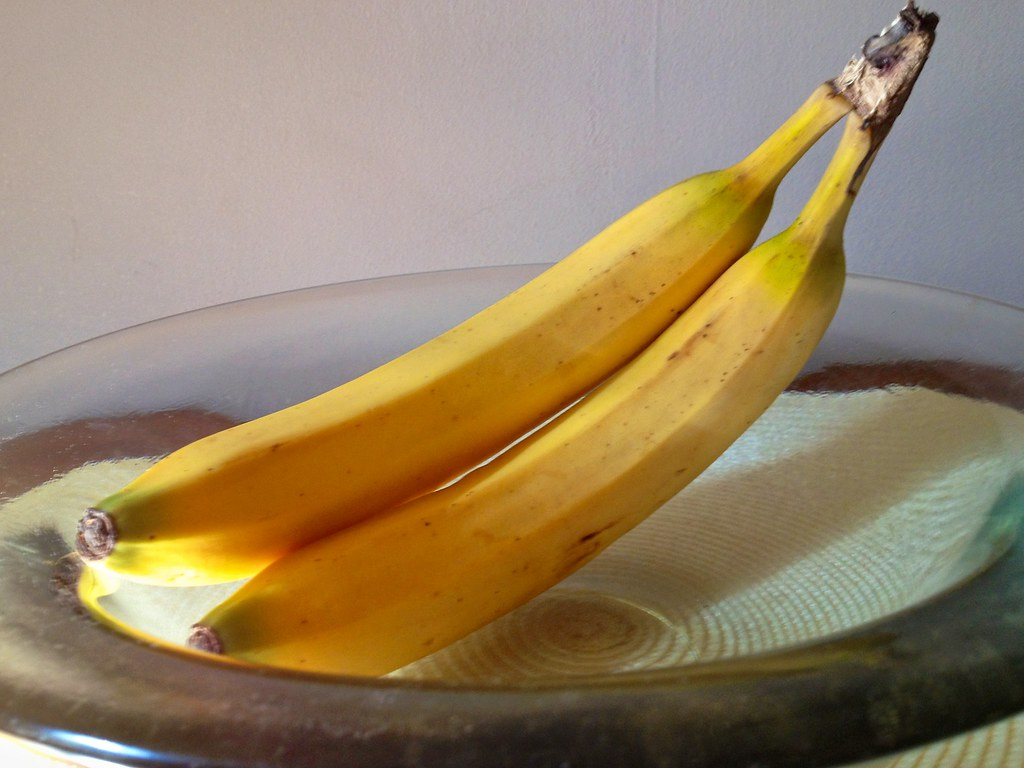banana: (68, 11, 970, 685)
